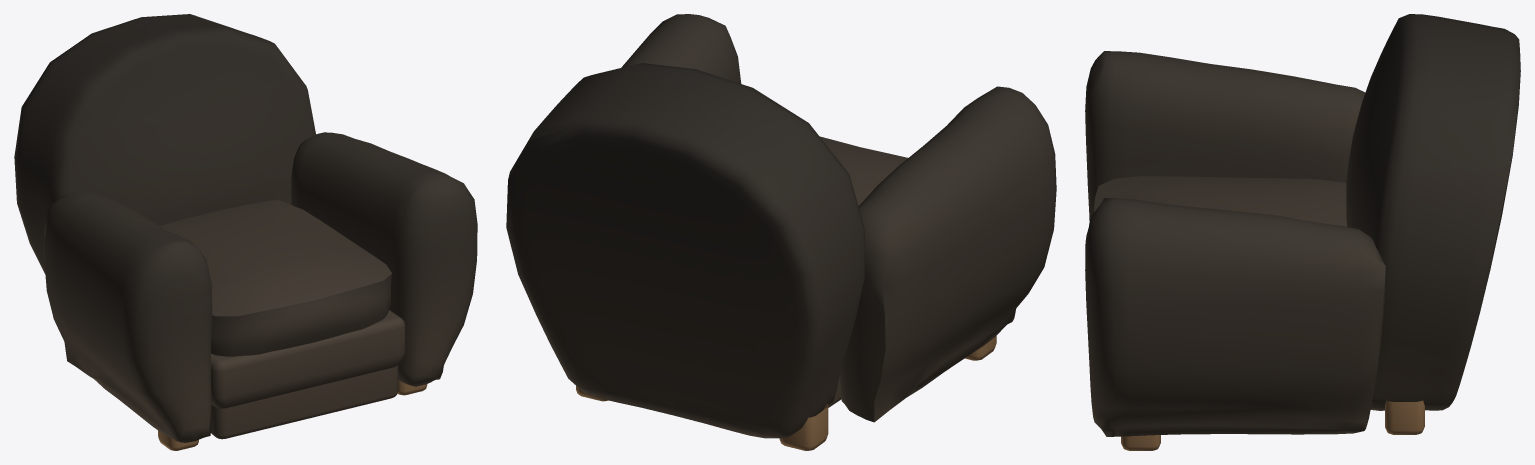
The model's file is Chair.fbx.
3 renders of one model, left to right at view 1: azimuth 30°, elevation 25°; view 2: azimuth 150°, elevation 25°; view 3: azimuth 270°, elevation 25°, orthographic. The views are drawn at different scales.
Visible parts, largest first — view 1: Chair; view 2: Chair; view 3: Chair.
Part boxes in pixels (left/top/right/bottom): Chair: left=14, top=14, right=477, bottom=450; Chair: left=506, top=14, right=1056, bottom=450; Chair: left=1085, top=14, right=1520, bottom=450.
Bounding box in the file's own units: 1.09 × 0.8898 × 1.02.
